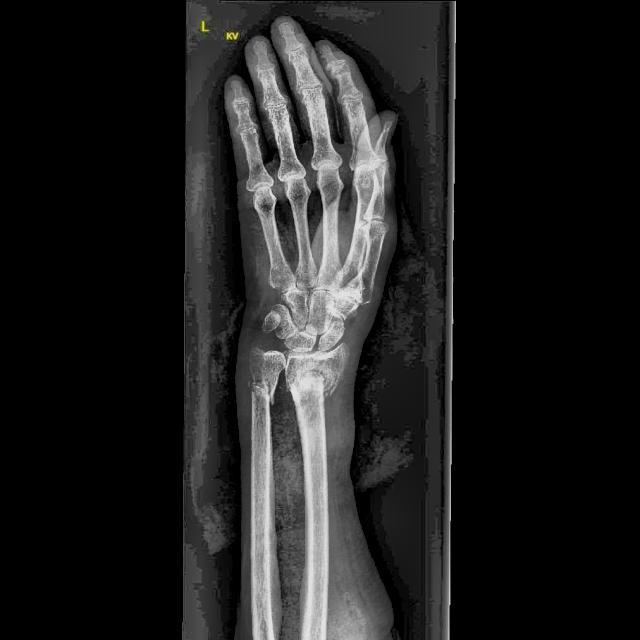fracture: (290, 371, 335, 402), (244, 376, 274, 406)
